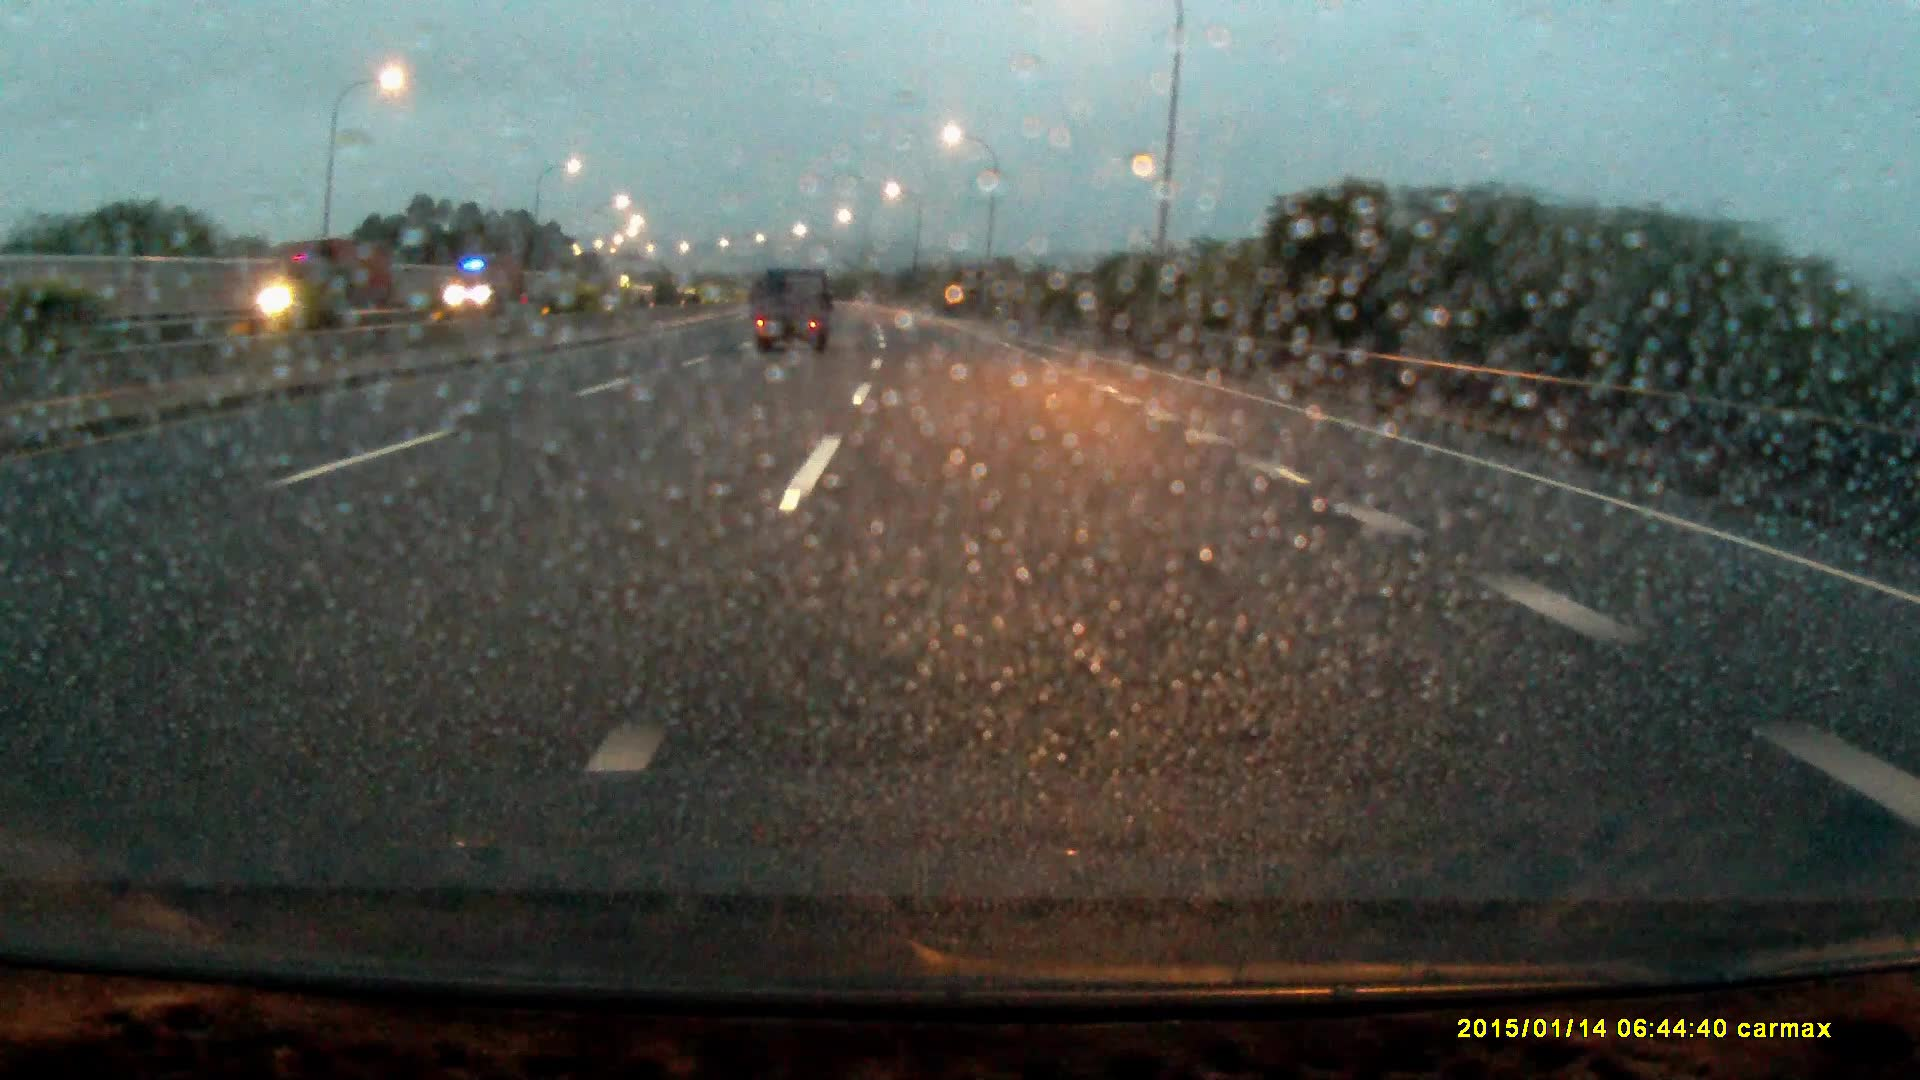vehicle: (251, 247, 396, 328), (750, 272, 829, 361), (444, 255, 524, 316)
